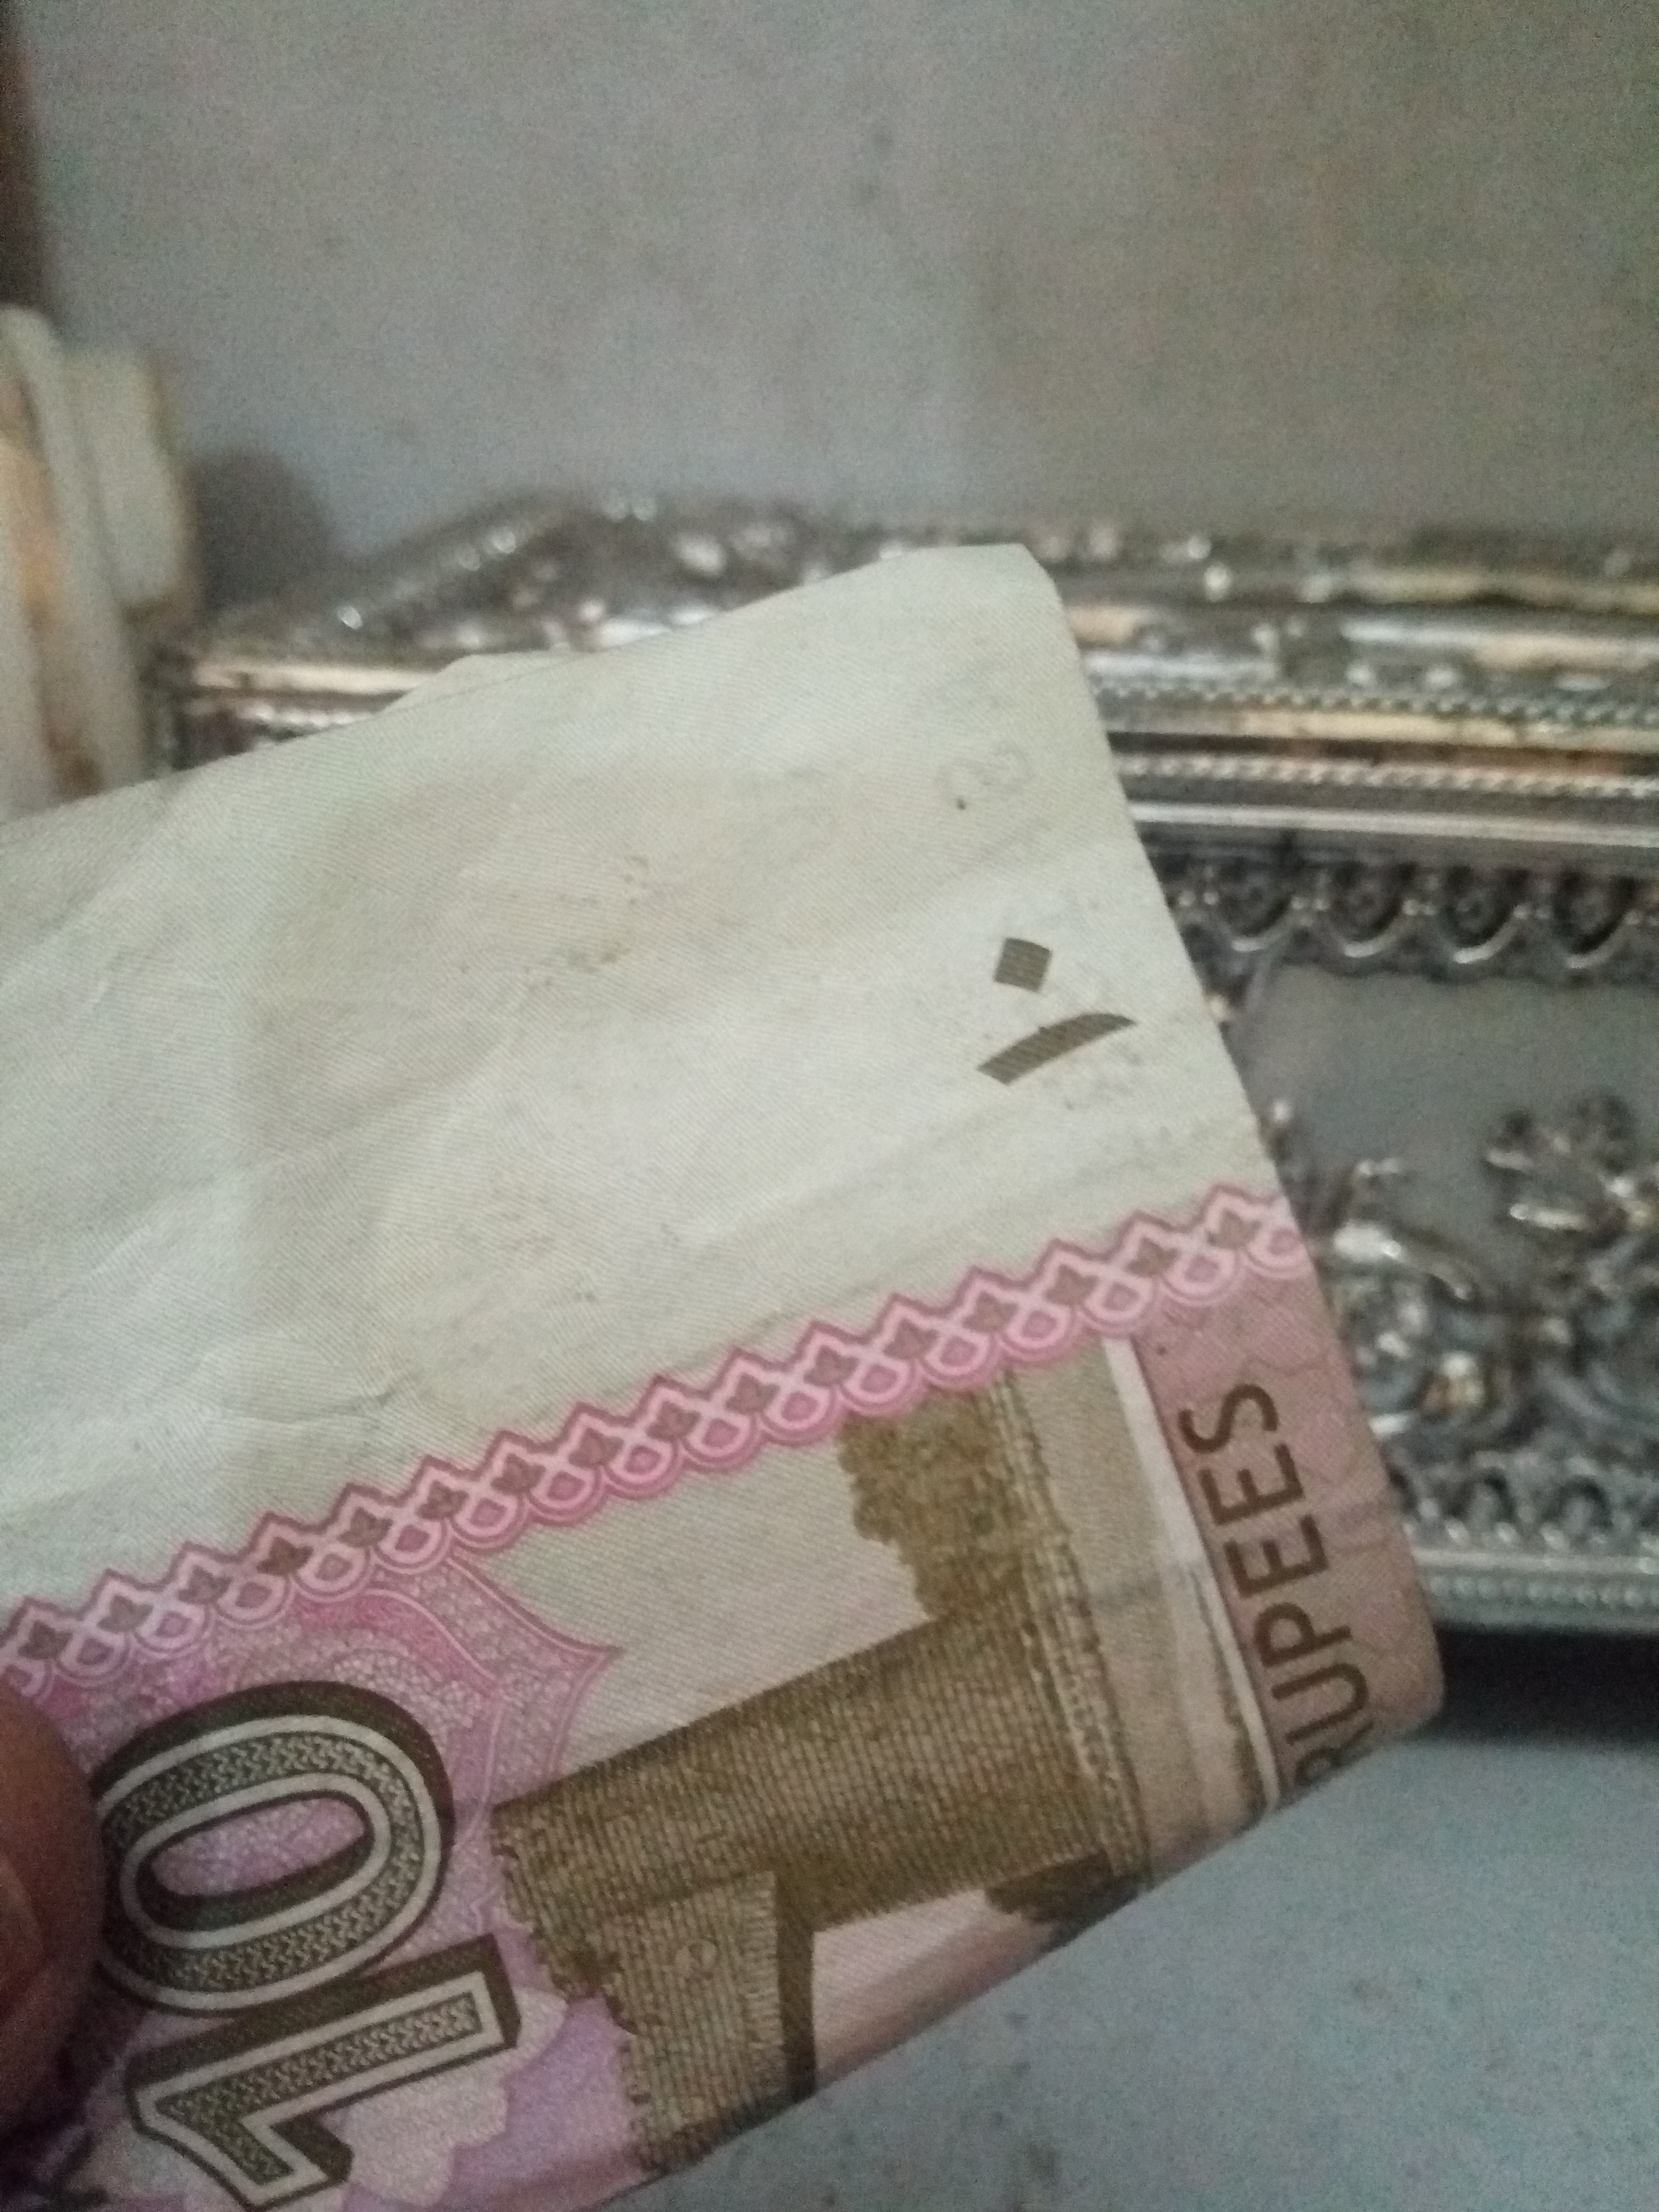10 rupee: (0, 481, 1483, 2212)
